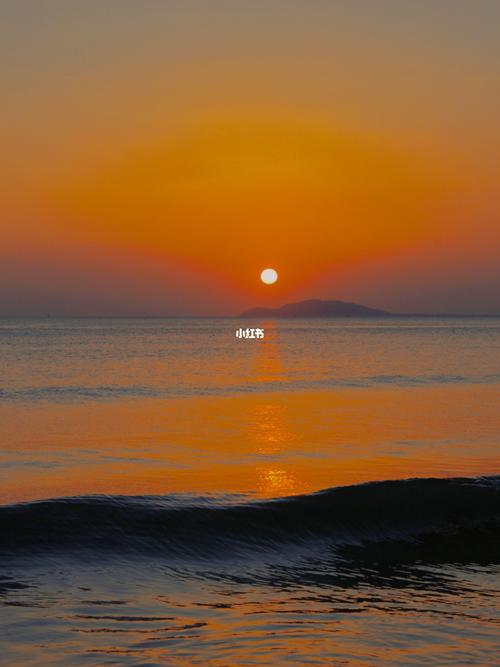sea_river: (20, 316, 467, 396)
sky_cloud: (18, 59, 457, 294)
